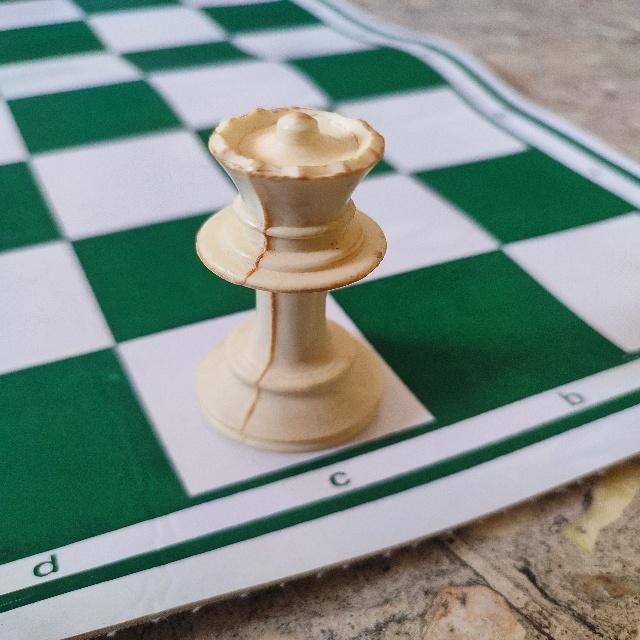Queen: (193, 100, 394, 458)
